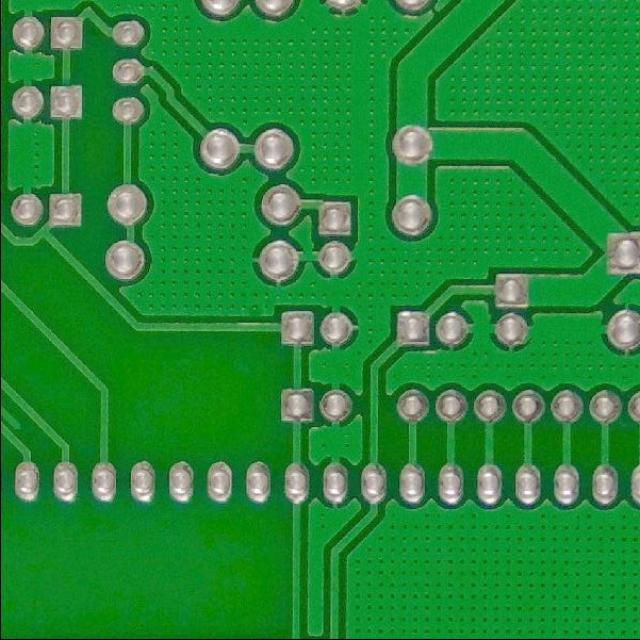Spurious_Cooper: (0, 395, 29, 436)
